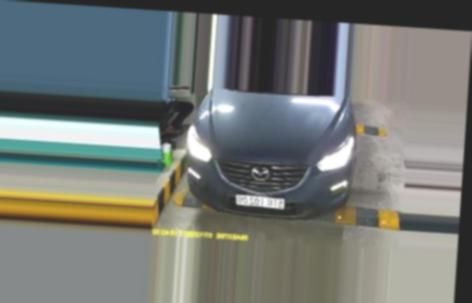License_Plate: (231, 192, 286, 212)
